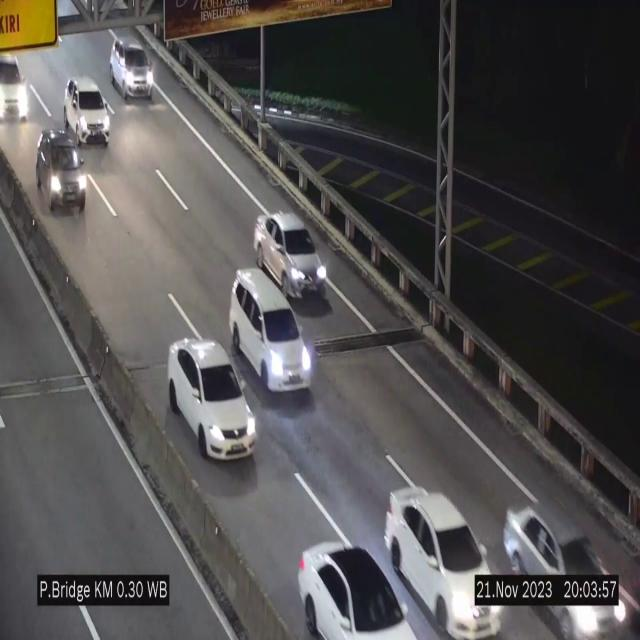Car: (384, 481, 502, 640), (506, 495, 628, 640), (287, 526, 421, 640), (167, 340, 257, 460), (230, 268, 312, 392), (254, 212, 328, 300), (34, 128, 89, 218), (0, 40, 34, 131), (64, 77, 110, 144), (110, 39, 154, 99)
